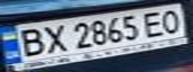2: (69, 19, 93, 51)
5: (118, 11, 145, 42)
6: (106, 15, 127, 44)
8: (90, 17, 109, 47)
B: (9, 25, 48, 57)
E: (139, 8, 169, 38)
O: (157, 7, 187, 35)
X: (36, 21, 69, 55)
